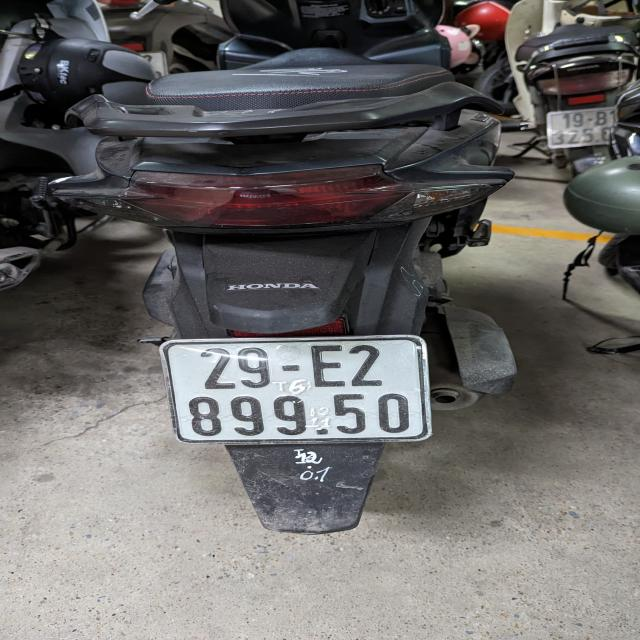License: (158, 334, 433, 445)
